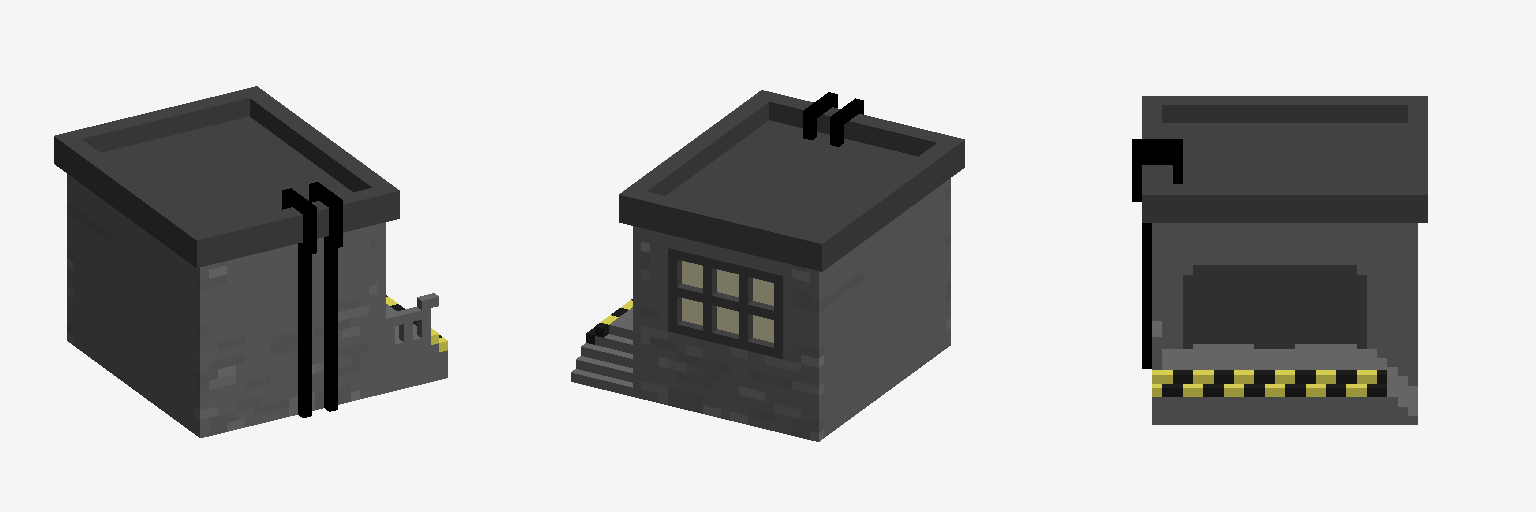
3 renders of one model, left to right at view 1: azimuth 30°, elevation 25°; view 2: azimuth 150°, elevation 25°; view 3: azimuth 270°, elevation 25°, orthographic.
Visible parts, largest first — view 1: object 1; view 2: object 1; view 3: object 1.
Part boxes in pixels (x1,y1,x2,y2): object 1: (54,86,447,437); object 1: (571,90,964,441); object 1: (1132,96,1427,424).
Bounding box in the file's own units: 2.9 × 2.3 × 2.9.
Materials: 1 (1 with a texture image).